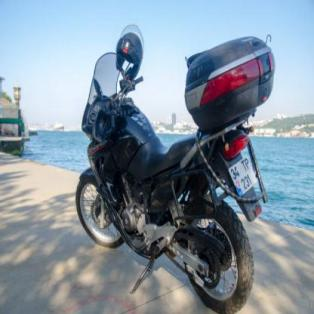Motocicleta: (73, 13, 274, 313)
